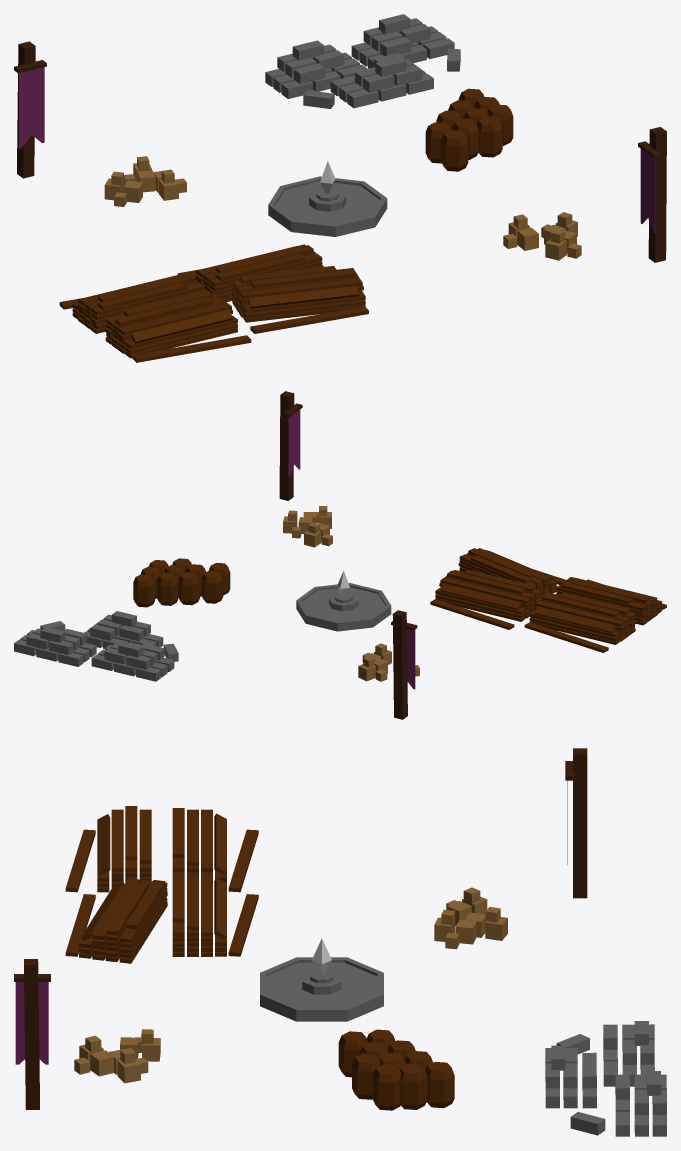
File: MarketBuildPhase1v1.fbx
3 renders of one model, top to bottom at view 1: azimuth 30°, elevation 25°; view 2: azimuth 150°, elevation 25°; view 3: azimuth 270°, elevation 25°, orthographic. The views are drawn at different scales.
Parts seen in each view (by area): view 1: Circle.024; view 2: Circle.024; view 3: Circle.024.
Part boxes in pixels (<box>): Circle.024: <box>14,14,666,362</box>; Circle.024: <box>14,391,666,719</box>; Circle.024: <box>14,748,666,1136</box>.
Size of the model in its own units: 341 by 75.72 by 309.
